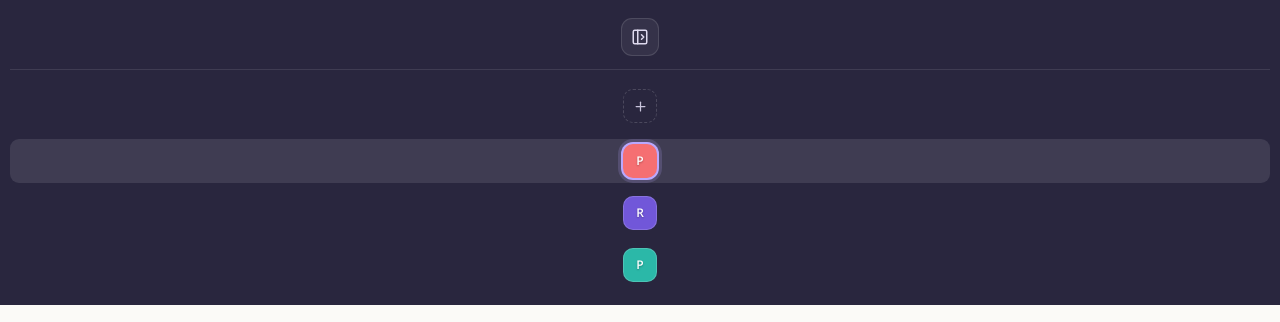
Scenario: SpaceSidebar › starts collapsed with colored monograms and can reveal full space controls
Expected: the text "tabloom" is not shown
Expected: the button named "Select Product launch" reads "P", [10,139,1270,183]
Click the button named "Expand sidebar": point(640, 37) [621,18,659,56]
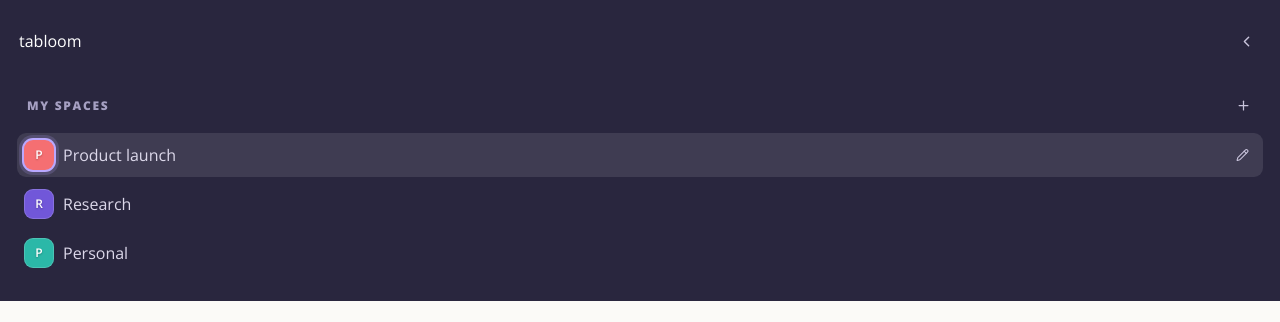
Result: the text "tabloom" is shown at [19,29,82,53]
Result: the button with aria-label "Select Product launch" shows "Product launch" at [17,133,1263,177]
Result: the button named "Edit Product launch" is shown at [1229,142,1256,168]
